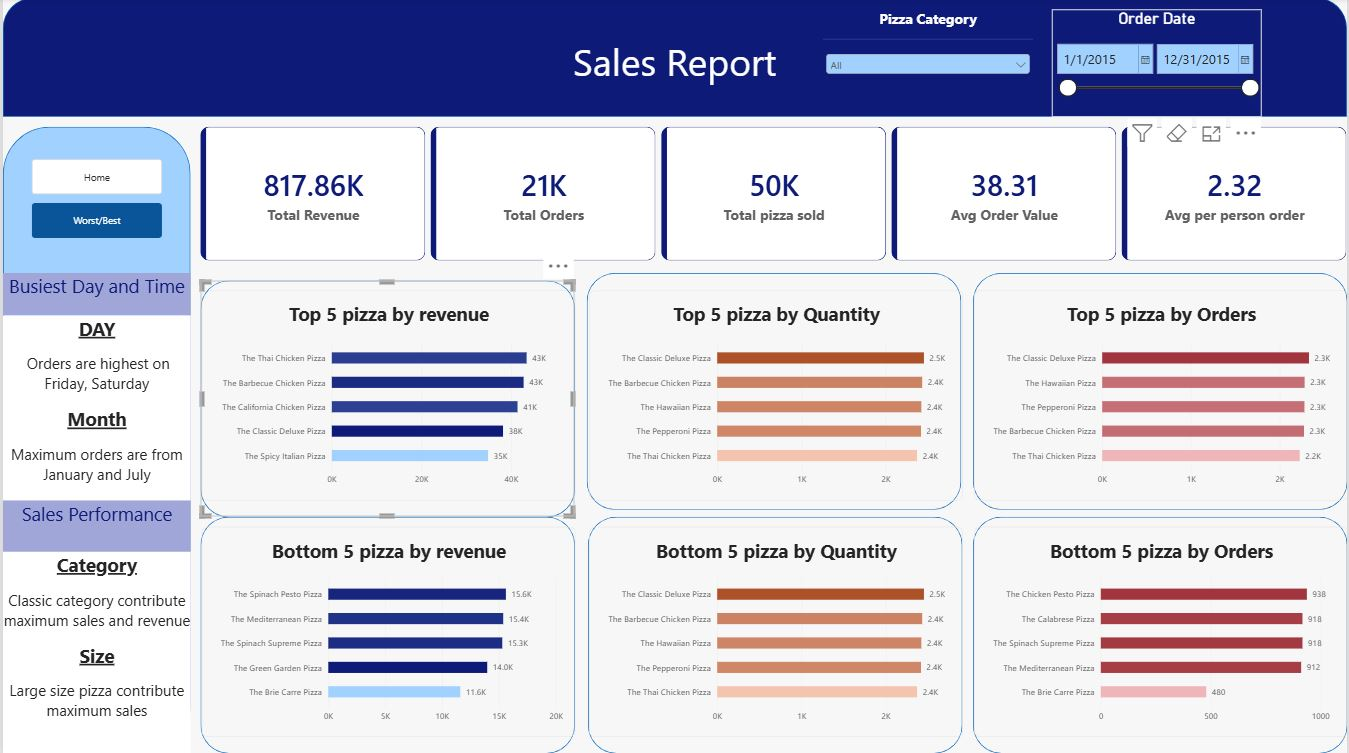

This screenshot's page, from the dashboard's own definition file:
{"tool":"powerbi","page":{"name":"Worst/Best","canvas":[1920,1080],"ordinal":1},"visuals":[{"type":"shape","box":[0,183.3,267.9,896.4],"z":0},{"type":"shape","box":[0,0,1919.7,169.6],"z":1},{"type":"shape","box":[281.7,403.3,535,338.3],"z":2},{"type":"cardVisual","fields":{"Data":["pizza.Total Revenue","pizza.Total Orders","pizza.Total pizza sold","pizza.Avg Order Value","pizza.Avg per person order"]},"box":[282.1,183.9,1637.5,191.1],"z":4},{"type":"textbox","box":[0,53.6,1919.7,116.1],"z":13},{"type":"textbox","box":[0,393.3,268.3,60],"z":14},{"type":"textbox","box":[0,453.3,268.3,265],"z":15},{"type":"textbox","box":[0,718.3,268.3,73.3],"z":16},{"type":"textbox","box":[0,791.7,268.3,288.3],"z":17},{"type":"slicer","title":"Pizza Category","fields":{"Values":["pizza.pizza_category"]},"box":[1171.7,16.7,300,115],"z":18},{"type":"slicer","title":"Order Date","fields":{"Values":["pizza.order_date"]},"box":[1498.3,16.7,300,153.3],"z":19},{"type":"shape","box":[281.7,741.7,535,338.3],"z":22},{"type":"shape","box":[1385,393.3,535,338.3],"z":23},{"type":"shape","box":[1385,741.7,535,338.3],"z":24},{"type":"shape","box":[833.3,393.3,535,338.3],"z":25},{"type":"shape","box":[835,741.7,535,338.3],"z":26},{"type":"clusteredBarChart","title":"Top 5 pizza by revenue","fields":{"Category":["pizza.pizza_name"],"Y":["pizza.Total Revenue"]},"box":[283.3,418.3,533.3,300],"z":27},{"type":"clusteredBarChart","title":"Bottom 5 pizza by revenue","fields":{"Category":["pizza.pizza_name"],"Y":["pizza.Total Revenue"]},"box":[283.3,755,533.3,300],"z":28},{"type":"clusteredBarChart","title":"Top 5 pizza by Quantity","fields":{"Category":["pizza.pizza_name"],"Y":["pizza.Total pizza sold"]},"box":[836.7,418.3,533.3,300],"z":29},{"type":"clusteredBarChart","title":"Bottom 5 pizza by Quantity","fields":{"Category":["pizza.pizza_name"],"Y":["pizza.Total pizza sold"]},"box":[836.7,755,533.3,300],"z":30},{"type":"clusteredBarChart","title":"Top 5 pizza by Orders","fields":{"Category":["pizza.pizza_name"],"Y":["pizza.Total Orders"]},"box":[1386.7,418.3,533.3,300],"z":31},{"type":"clusteredBarChart","title":"Bottom 5 pizza by Orders","fields":{"Category":["pizza.pizza_name"],"Y":["pizza.Total Orders"]},"box":[1386.7,755,533.3,300],"z":32},{"type":"pageNavigator","box":[41.7,230,186.7,50],"z":33},{"type":"pageNavigator","box":[41.7,293.3,186.7,50],"z":34}]}

Visuals, with their boxes in screenshot pixels (x1, y1, x2, y2), scaled from the page's 1920x1080 canvas onto the 1349x753 screenshot:
shape: x1=0, y1=128, x2=188, y2=752
shape: x1=0, y1=0, x2=1348, y2=118
shape: x1=198, y1=281, x2=574, y2=517
cardVisual - pizza.Total Revenue x pizza.Total Orders: x1=198, y1=128, x2=1348, y2=261
textbox: x1=0, y1=37, x2=1348, y2=118
textbox: x1=0, y1=274, x2=189, y2=316
textbox: x1=0, y1=316, x2=189, y2=501
textbox: x1=0, y1=501, x2=189, y2=552
textbox: x1=0, y1=552, x2=189, y2=752
"Pizza Category" slicer: x1=823, y1=12, x2=1034, y2=92
"Order Date" slicer: x1=1053, y1=12, x2=1263, y2=119
shape: x1=198, y1=517, x2=574, y2=752
shape: x1=973, y1=274, x2=1348, y2=510
shape: x1=973, y1=517, x2=1348, y2=752
shape: x1=585, y1=274, x2=961, y2=510
shape: x1=587, y1=517, x2=963, y2=752
"Top 5 pizza by revenue" clusteredBarChart: x1=199, y1=292, x2=574, y2=501
"Bottom 5 pizza by revenue" clusteredBarChart: x1=199, y1=526, x2=574, y2=736
"Top 5 pizza by Quantity" clusteredBarChart: x1=588, y1=292, x2=963, y2=501
"Bottom 5 pizza by Quantity" clusteredBarChart: x1=588, y1=526, x2=963, y2=736
"Top 5 pizza by Orders" clusteredBarChart: x1=974, y1=292, x2=1348, y2=501
"Bottom 5 pizza by Orders" clusteredBarChart: x1=974, y1=526, x2=1348, y2=736
pageNavigator: x1=29, y1=160, x2=160, y2=195
pageNavigator: x1=29, y1=204, x2=160, y2=239
